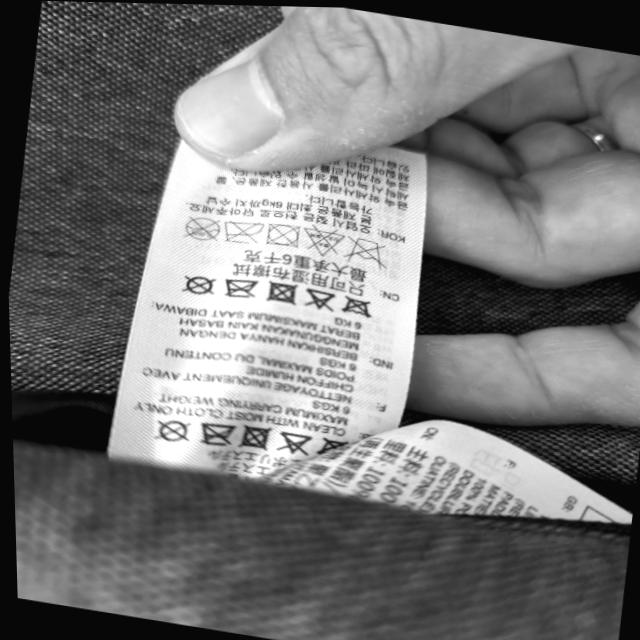DN_bleach: (305, 227, 347, 256), (277, 430, 314, 456), (305, 287, 336, 313)
DN_dry_clean: (182, 214, 223, 243), (155, 416, 193, 443), (182, 272, 219, 296)
DN_iron: (224, 217, 266, 249), (200, 420, 238, 447), (225, 274, 260, 301)
DN_tumble_dry: (266, 222, 303, 249), (240, 424, 273, 451), (266, 281, 298, 306)
DN_wash: (349, 234, 386, 266), (344, 295, 377, 316)
